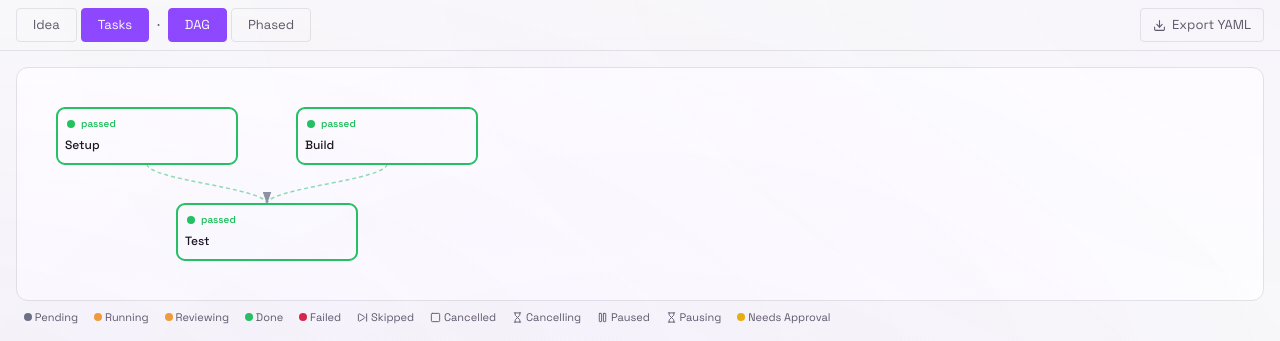
Test: ProjectDetailPage › shows "No spec content" when spec is empty
What coordinates should you click on to do the following:
click the button "Idea"
I would click on:
 (46, 25)
Its box is top-left (16, 8), bottom-right (77, 42).
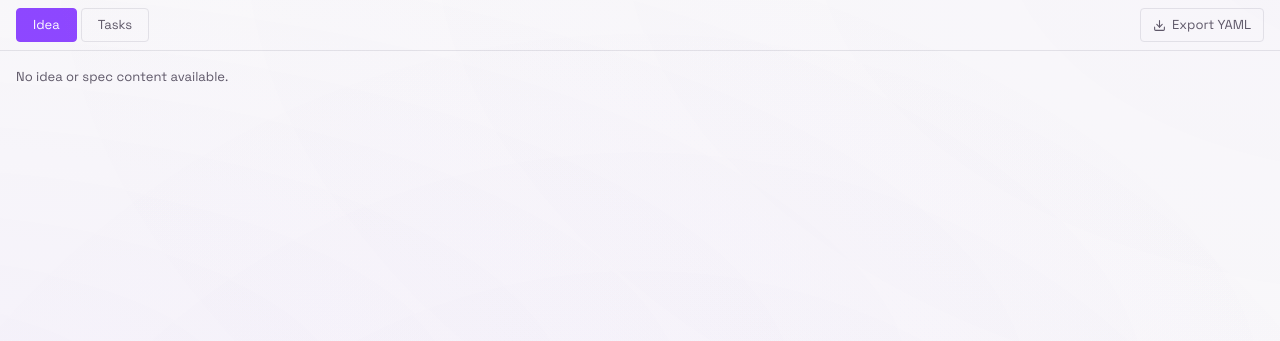
expect the text "No idea or spec content available." is shown: met, box top-left (16, 68), bottom-right (228, 85)
